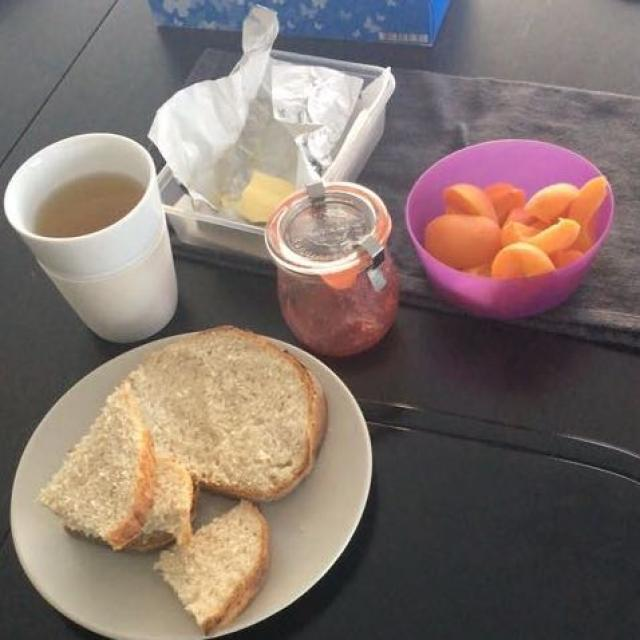Apricot: (176, 425, 602, 602)
Bread loaf: (28, 28, 496, 351)
Butter stick/block: (168, 213, 287, 290)
Jar of Jam: (266, 266, 389, 389)
